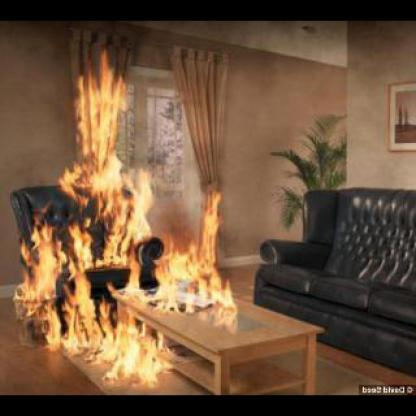fire: (13, 222, 172, 390), (60, 53, 160, 264), (140, 184, 254, 340)
